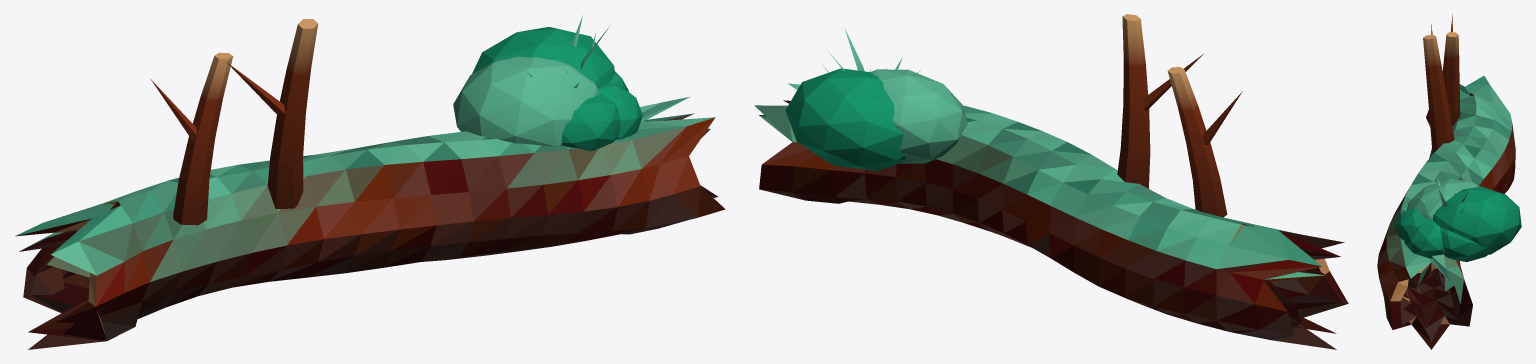
Rendered from pohon_tumbang_hollow_redwood_718390.glb.
3 views of the same model, side by side, from view 1: azimuth 30°, elevation 25°; view 2: azimuth 150°, elevation 25°; view 3: azimuth 270°, elevation 25° (orthographic). The views are drawn at different scales.
Visible parts, largest first — view 1: Batang_Pohon_Berlubang; view 2: Batang_Pohon_Berlubang; view 3: Batang_Pohon_Berlubang.
Part boxes in pixels (x1,y1,x2,y2): Batang_Pohon_Berlubang: [15, 15, 725, 349]; Batang_Pohon_Berlubang: [754, 14, 1348, 349]; Batang_Pohon_Berlubang: [1377, 14, 1521, 349].
Size of the model in its own units: 5.55 by 2.32 by 1.63.
